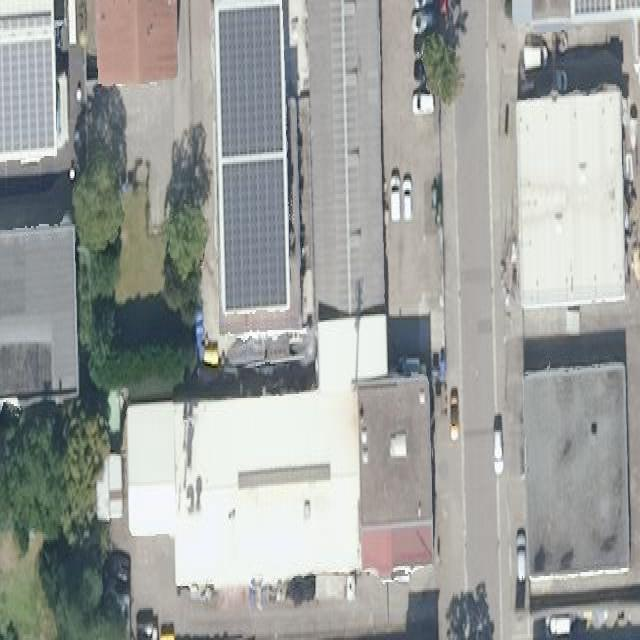PV: (219, 150, 289, 316), (216, 0, 284, 162), (571, 0, 639, 19)
